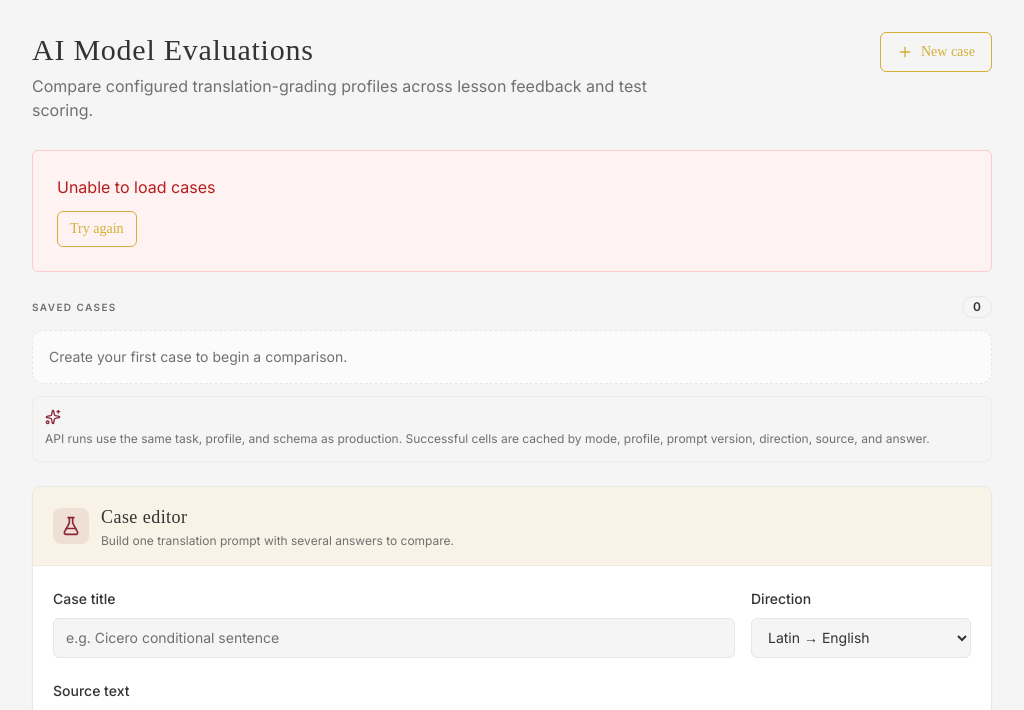
Test: AI evaluation admin workspace › asks before a load retry replaces edits made after the initial request failed
The image size is (1024, 710).
Type "Unsaved draft" into the field labelled "Case title" at {"x": 394, "y": 638}, box left=53, top=618, right=735, bottom=658
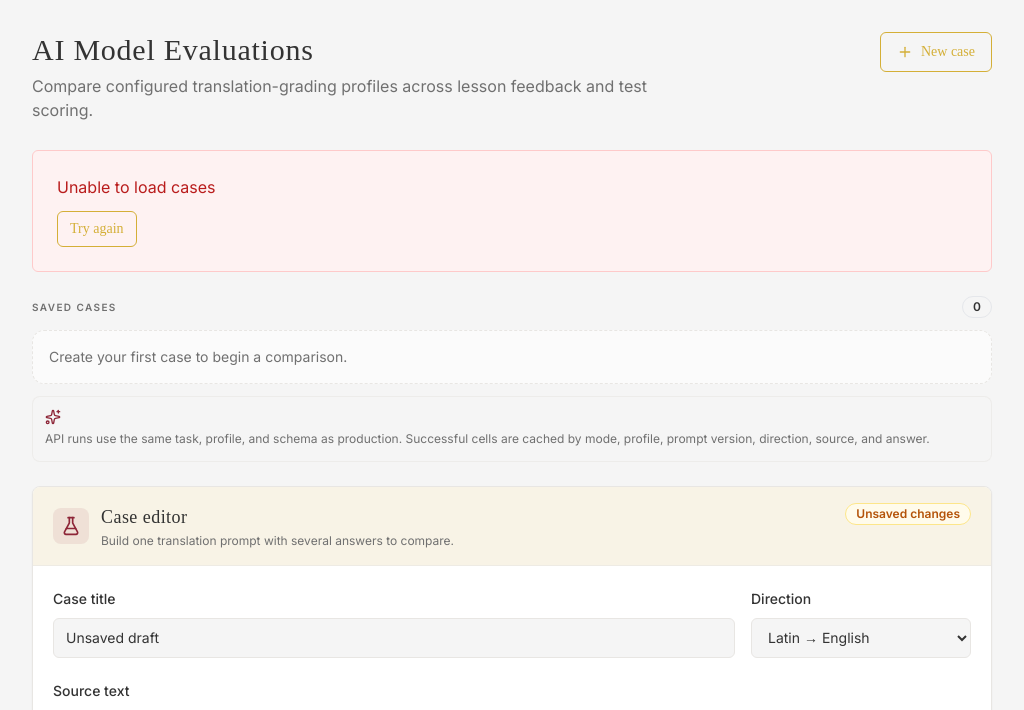
Click the button "Try again" at {"x": 97, "y": 229}, box left=57, top=211, right=136, bottom=247
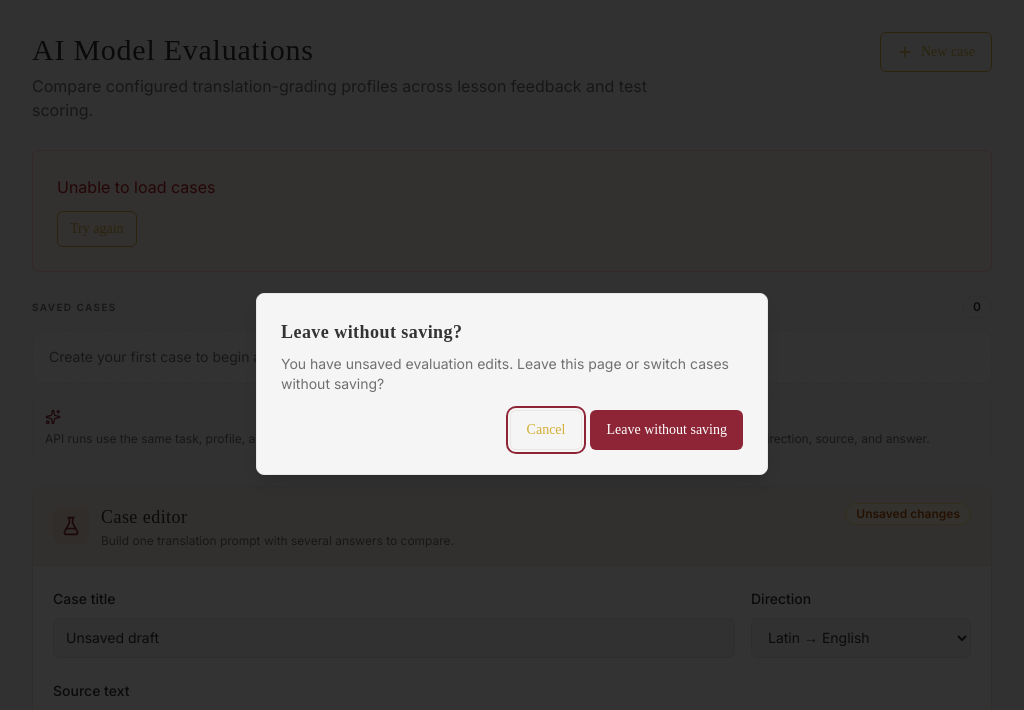
Result: the dialog shows "Leave without saving?" at left=281, top=322, right=462, bottom=342
Click the button "Leave without saving" at {"x": 667, "y": 430}, box left=590, top=410, right=743, bottom=450
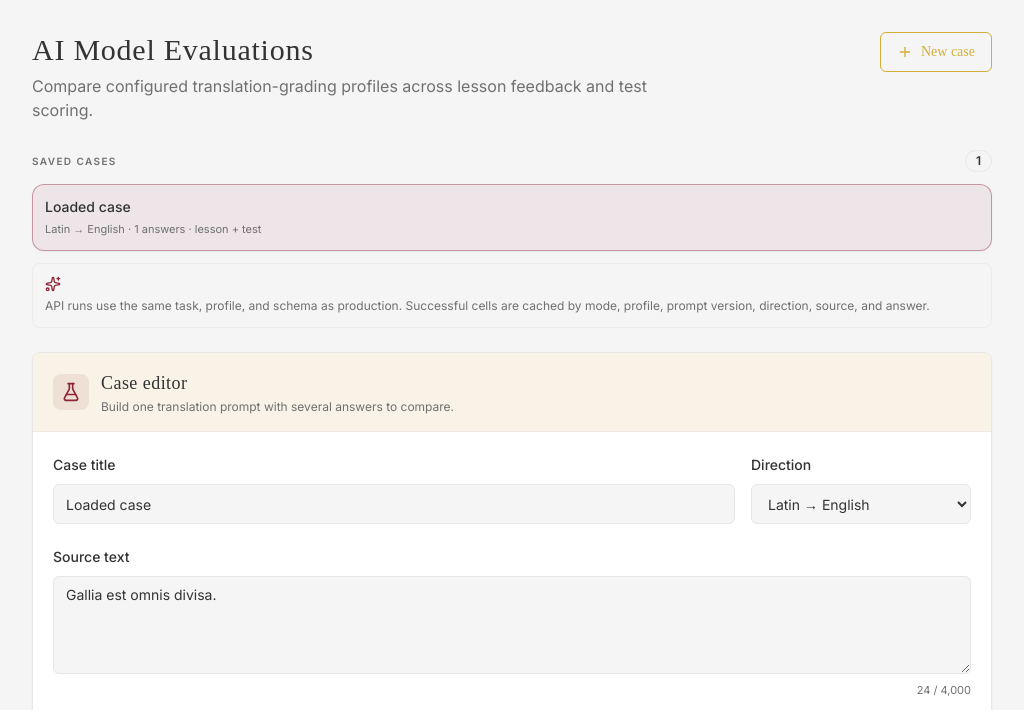
Result: the field labelled "Case title" holds "Loaded case" at left=53, top=484, right=735, bottom=524
